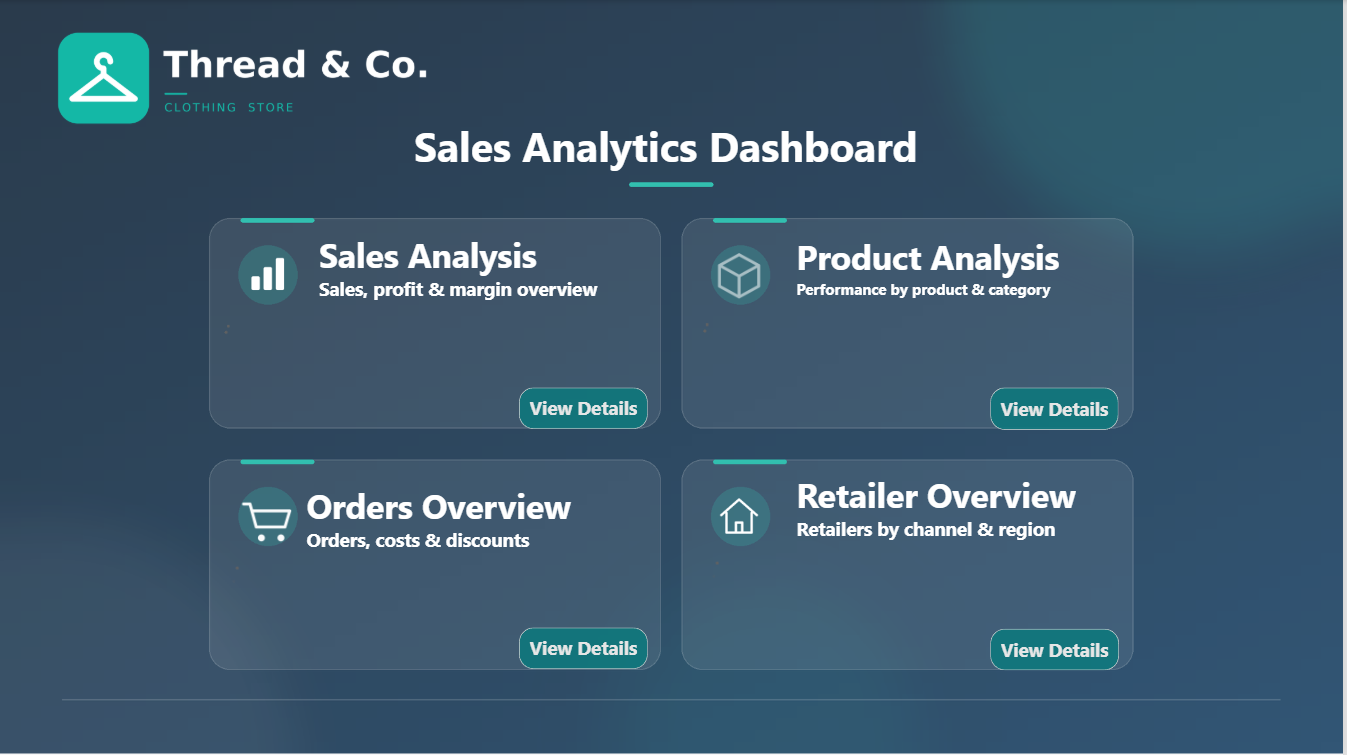

The page's visual inventory and layout, read from the dashboard file:
{"tool":"powerbi","page":{"name":"Home Page","canvas":[1920,1080],"ordinal":0},"visuals":[{"type":"textbox","box":[1139.3,333.9,448.2,119.6],"z":0},{"type":"cardVisual","fields":{"Data":["Max(Products.Product_Name)","Measures (3).Total Quantity","Avg(Orders.Sales_Amount)"]},"box":[998.2,453.6,601.8,85.7],"z":1000},{"type":"cardVisual","fields":{"Data":["CountNonNull(Orders.Order_ID)","Sum(Orders.Product_Cost)","Avg(Orders.Product_Discount)"]},"box":[312.5,801.8,614.3,80.4],"z":2000},{"type":"textbox","box":[439.3,689.3,523.2,128.6],"z":3000},{"type":"image","box":[0,39.3,682.1,146.4],"z":4000},{"type":"textbox","box":[489.3,167.9,926.8,110.7],"z":5000},{"type":"textbox","box":[457.1,330.4,505.4,128.6],"z":6000},{"type":"textbox","box":[1139.3,673.2,505.4,128.6],"z":7000},{"type":"actionButton","box":[1416.5,552.9,183.2,60.5],"z":8000},{"type":"actionButton","box":[1416.1,898.2,184,59.4],"z":9000},{"type":"actionButton","box":[742.9,553.6,184,59.4],"z":10000},{"type":"actionButton","box":[742.9,896.4,184,59.4],"z":11000},{"type":"image","box":[296.4,703.6,173.2,83.9],"z":12000},{"type":"image","box":[1016.1,351.8,82.1,83.9],"z":13000},{"type":"image","box":[350,344.6,67.9,91.1],"z":14000},{"type":"image","box":[1023.2,691.1,67.9,91.1],"z":15000},{"type":"cardVisual","fields":{"Data":["Measures (3).Total Sales","Measures (3).Total Profit","Measures (3).Average Profit Margin"]},"box":[313.5,455.7,614.3,80.4],"z":16000},{"type":"cardVisual","fields":{"Data":["CountNonNull(Retailers.Retailer_ID)","Max(Retailers.Retailer_Channel)","Max(Retailers.Region)"]},"box":[999,795.1,601.8,85.7],"z":17000}]}

Visuals, with their boxes in screenshot pixels (x1, y1, x2, y2), scaled from the page's 1920x1080 canvas onto the 1347x755 screenshot:
textbox: bbox=(799, 233, 1114, 317)
cardVisual - Max(Products.Product_Name) x Measures (3).Total Quantity: bbox=(700, 317, 1122, 377)
cardVisual - CountNonNull(Orders.Order_ID) x Sum(Orders.Product_Cost): bbox=(219, 561, 650, 617)
textbox: bbox=(308, 482, 675, 572)
image: bbox=(0, 27, 479, 130)
textbox: bbox=(343, 117, 993, 195)
textbox: bbox=(321, 231, 675, 321)
textbox: bbox=(799, 471, 1154, 561)
actionButton: bbox=(994, 387, 1122, 429)
actionButton: bbox=(993, 628, 1123, 669)
actionButton: bbox=(521, 387, 650, 429)
actionButton: bbox=(521, 627, 650, 668)
image: bbox=(208, 492, 329, 551)
image: bbox=(713, 246, 770, 305)
image: bbox=(246, 241, 293, 305)
image: bbox=(718, 483, 765, 547)
cardVisual - Measures (3).Total Sales x Measures (3).Total Profit: bbox=(220, 319, 651, 375)
cardVisual - CountNonNull(Retailers.Retailer_ID) x Max(Retailers.Retailer_Channel): bbox=(701, 556, 1123, 616)
